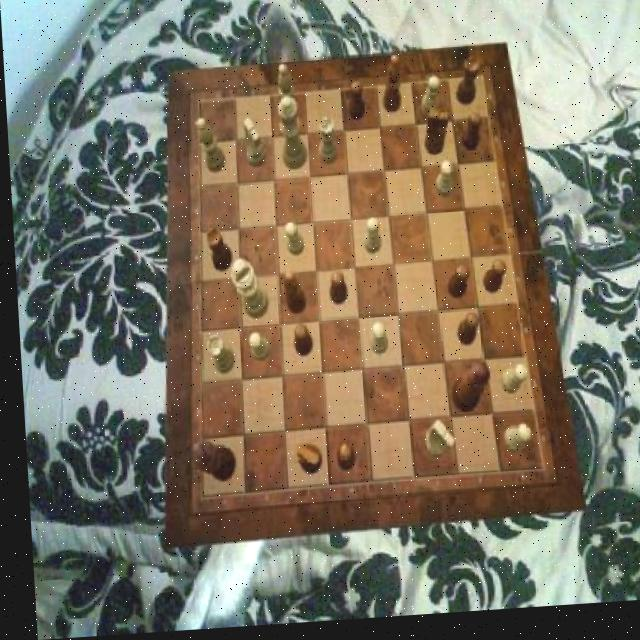bishop: (378, 61, 400, 120), (279, 274, 303, 319)
black-bishop: (184, 440, 229, 485)
black-king: (420, 115, 449, 162), (289, 446, 317, 478)
black-knight: (441, 270, 466, 306), (458, 118, 481, 157), (478, 265, 503, 300), (452, 317, 476, 353), (345, 88, 364, 127), (325, 277, 345, 312), (289, 328, 308, 361), (330, 448, 349, 476)
black-pawn: (444, 366, 487, 421)
black-queen: (453, 64, 480, 113), (202, 230, 229, 276)
black-rook: (196, 119, 224, 175), (275, 68, 297, 128)
white-bishop: (227, 261, 265, 323)
white-king: (418, 424, 450, 463), (240, 121, 263, 171)
white-knight: (417, 82, 439, 123), (496, 371, 524, 401), (497, 431, 525, 460), (360, 223, 379, 261), (433, 166, 452, 203), (365, 325, 384, 360), (281, 224, 300, 259), (245, 336, 267, 365)
white-pawn: (275, 98, 306, 174)
white-queen: (203, 338, 229, 378), (314, 123, 336, 170)
